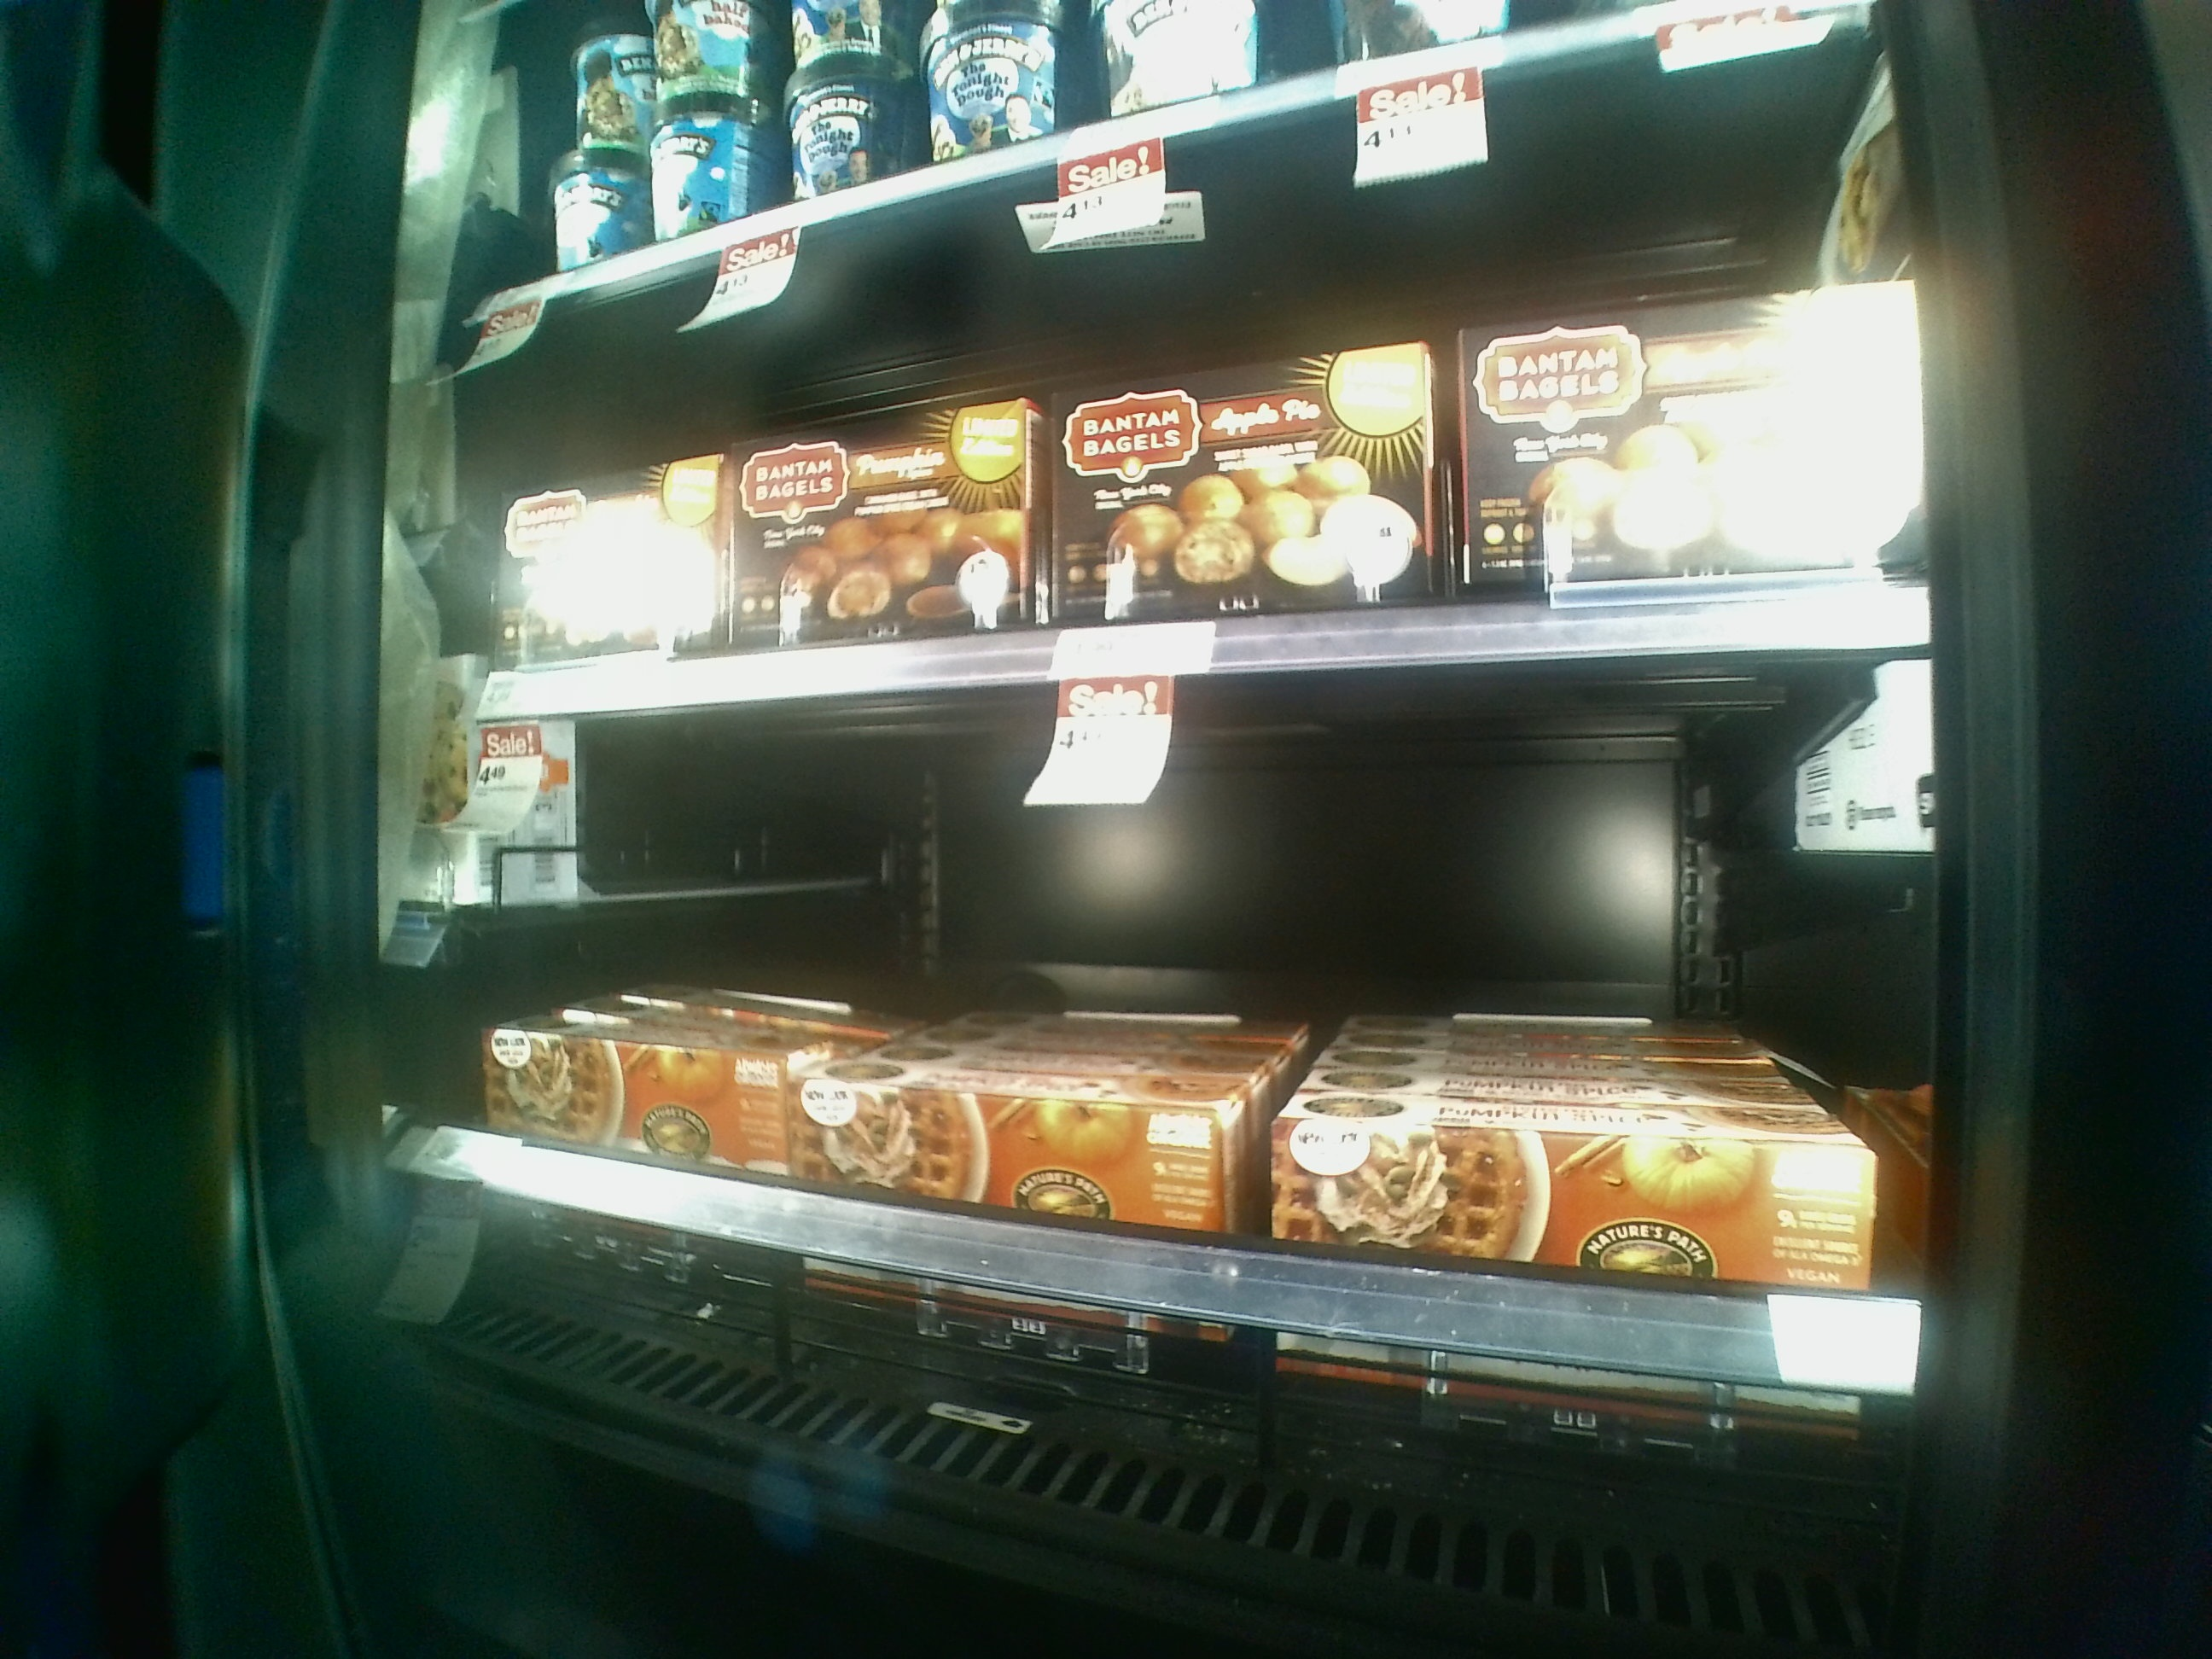shelf: (455, 674, 1923, 1582), (444, 291, 1933, 688)
